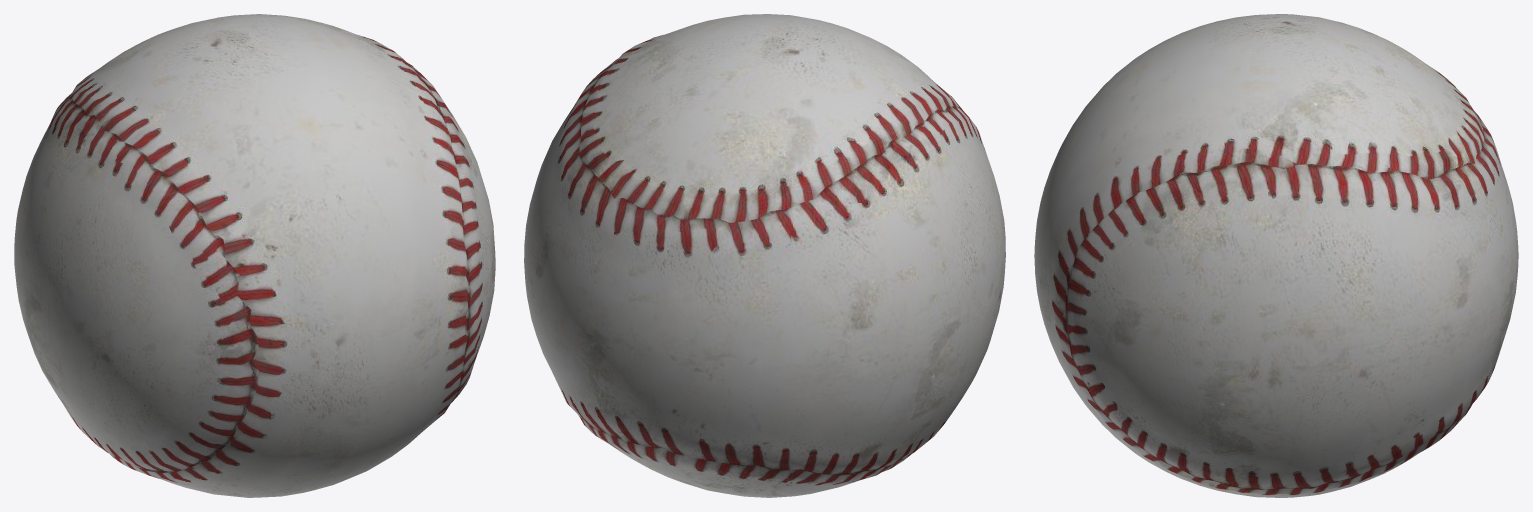
File: baseball.glb
The picture shows the model from 3 angles, left to right: view 1: azimuth 30°, elevation 25°; view 2: azimuth 150°, elevation 25°; view 3: azimuth 270°, elevation 25°; orthographic projection.
Parts seen in each view (by area): view 1: baseball; view 2: baseball; view 3: baseball.
Boxes of the visible parts, x1,y1,x2,y2 form: baseball: [14, 14, 495, 497]; baseball: [524, 14, 1005, 497]; baseball: [1034, 14, 1518, 497].
Bounding box in the file's own units: 0.0735 × 0.0753 × 0.0752.
1 material, 1 textured.
